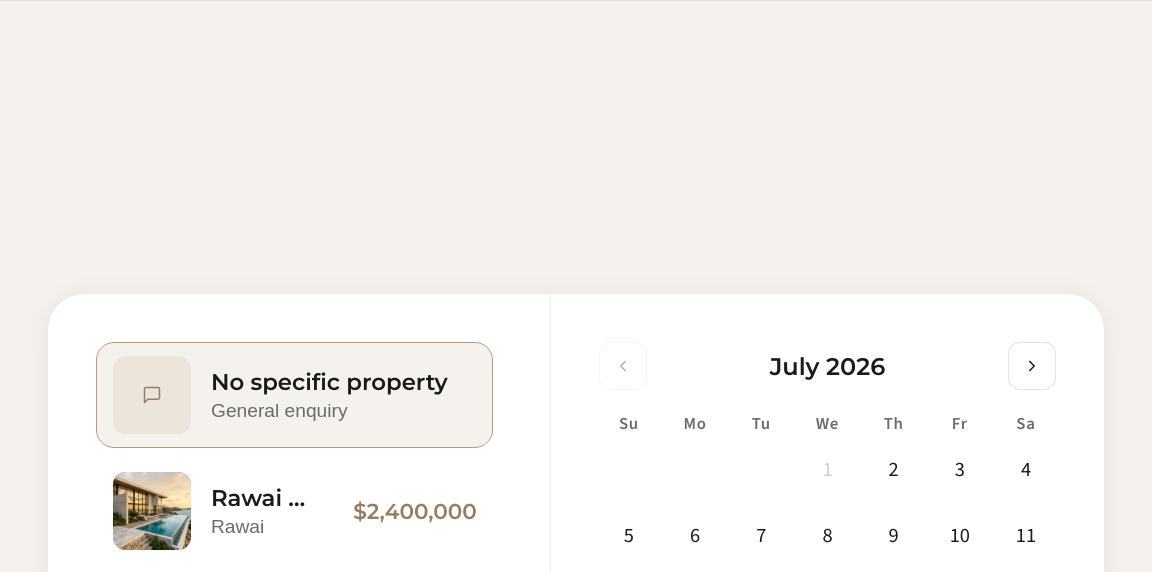
Scenario: ConsultationBooking › defaults to a general enquiry and routes to the lead agent after a date is chosen
expect the text "Booking with" is not shown: met
Click the button "2" at (894, 470), box [864, 440, 924, 500]
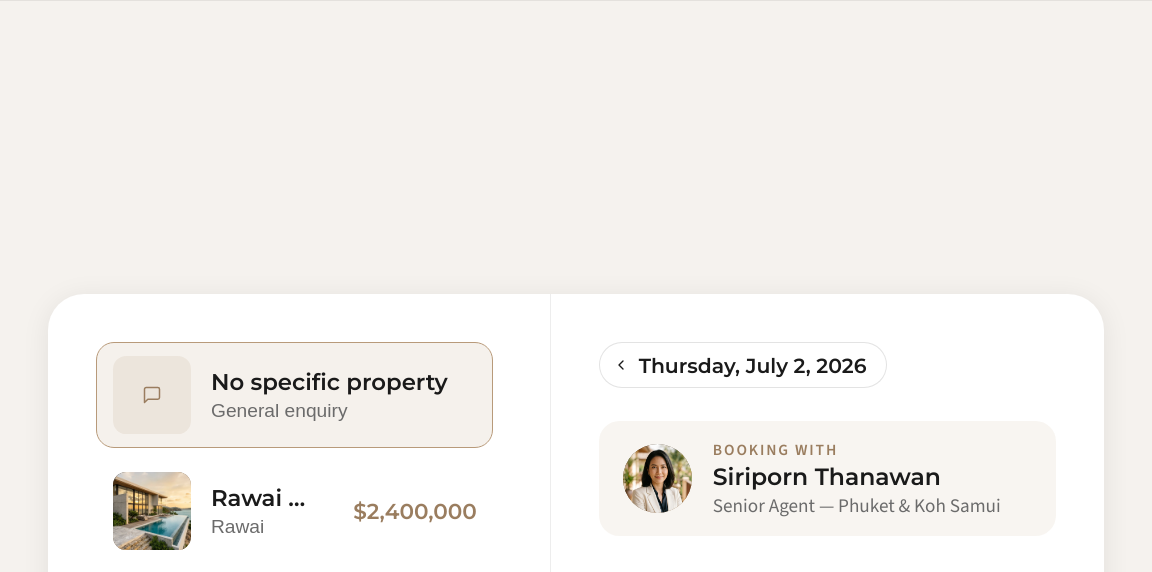
expect the text "Booking with" is shown: met, box [713, 439, 838, 460]
expect the text "Siriporn Thanawan" is shown: met, box [713, 462, 941, 491]
